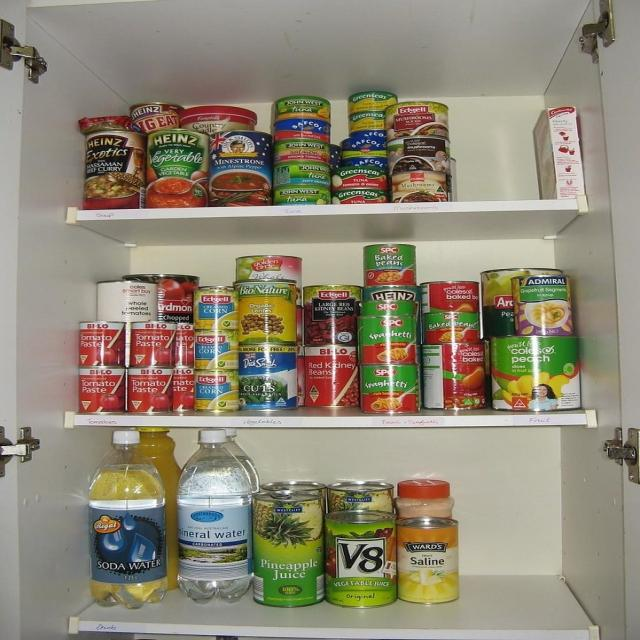Plastics: (72, 432, 253, 614)
can: (65, 76, 624, 423), (256, 460, 480, 610)
